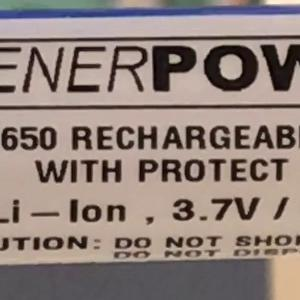3.7V: (163, 187, 267, 231)
